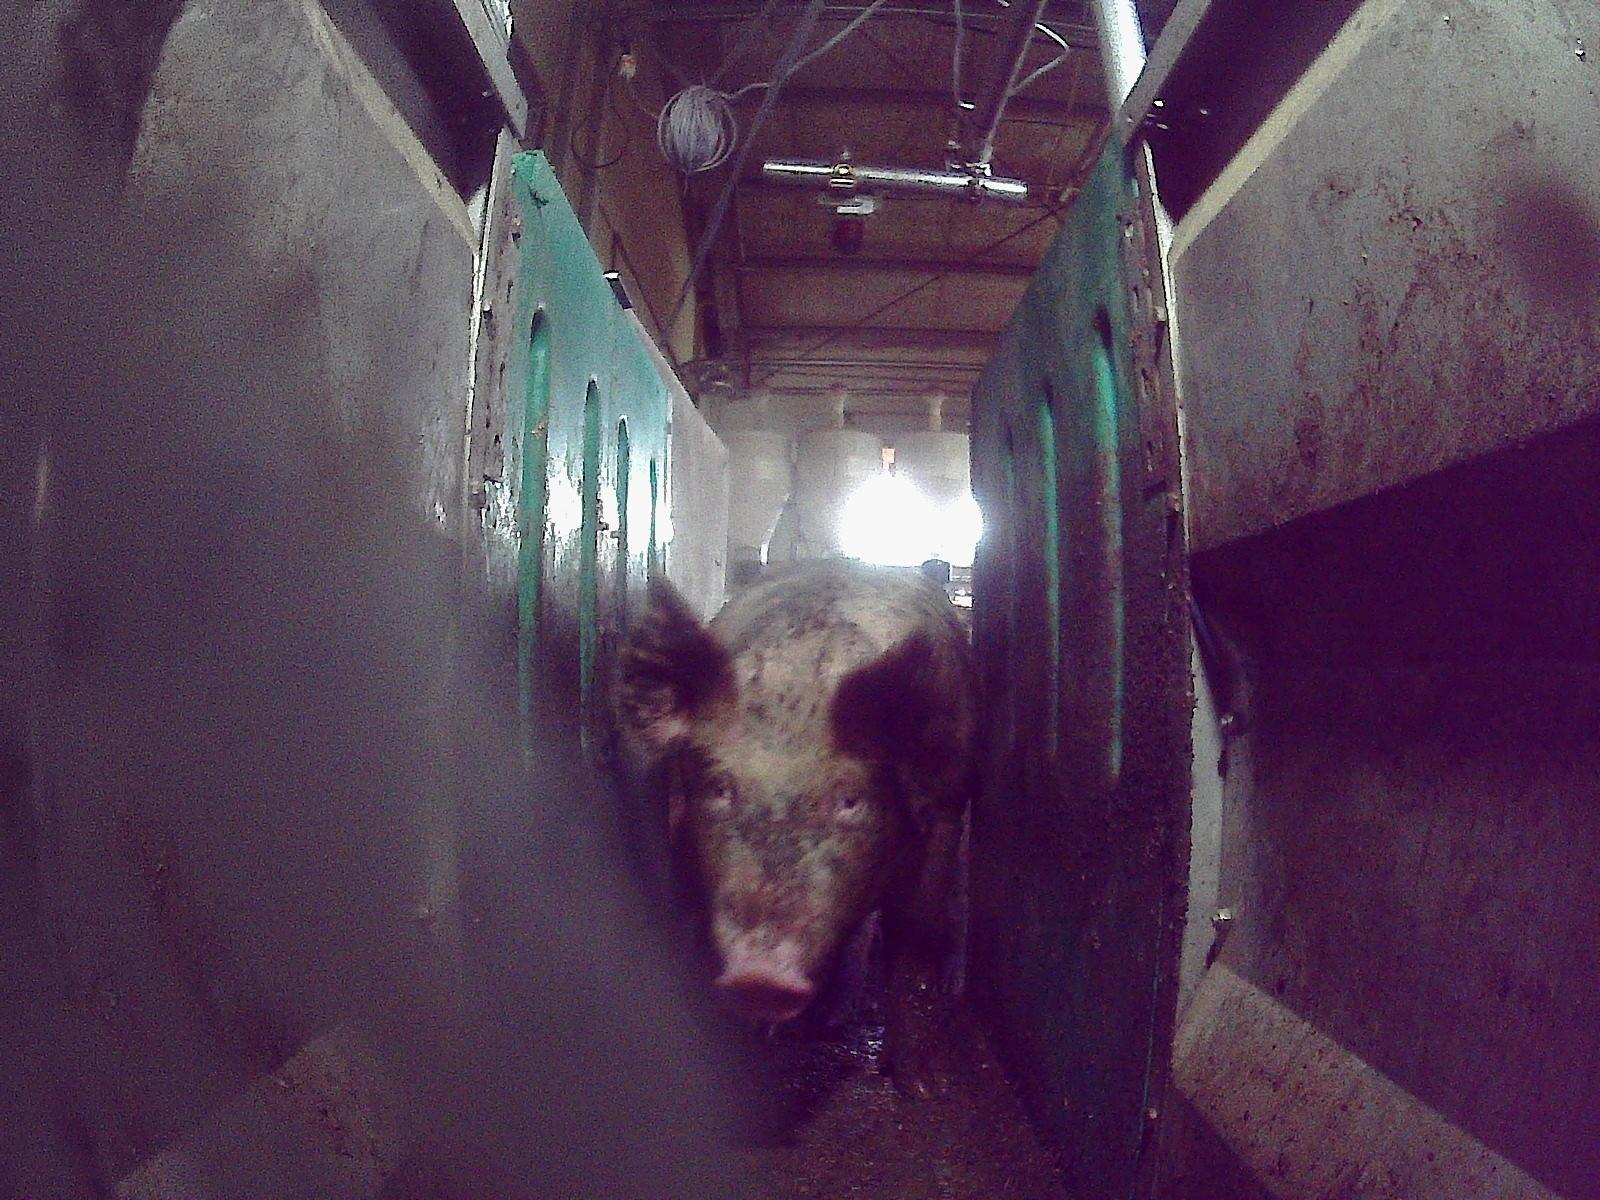Face: (668, 687, 896, 1019)
